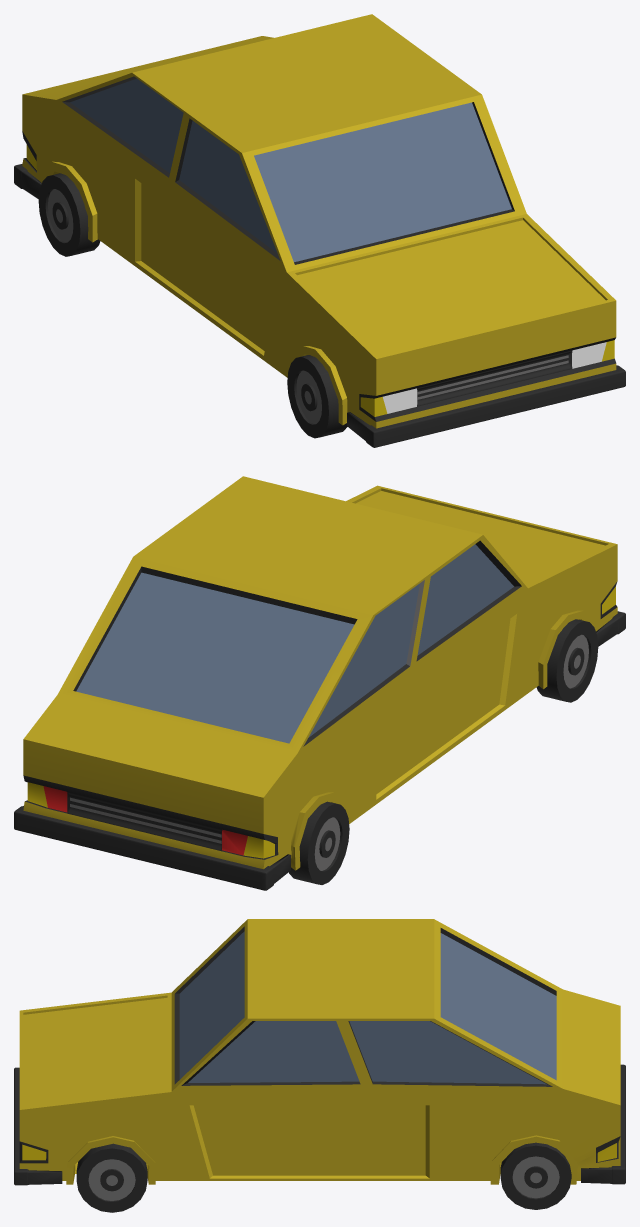
The model's file is Car_Yellow.fbx.
3 renders of one model, top to bottom at view 1: azimuth 30°, elevation 25°; view 2: azimuth 150°, elevation 25°; view 3: azimuth 270°, elevation 25°, orthographic. The views are drawn at different scales.
Parts seen in each view (by area): view 1: Car_Yellow; view 2: Car_Yellow; view 3: Car_Yellow.
Boxes of the visible parts, box(x1,y1,x2,y2) form: Car_Yellow: box(14, 14, 625, 447); Car_Yellow: box(14, 476, 625, 890); Car_Yellow: box(14, 919, 625, 1212).
Size of the model in its own units: 2.22 by 1.75 by 5.16.
